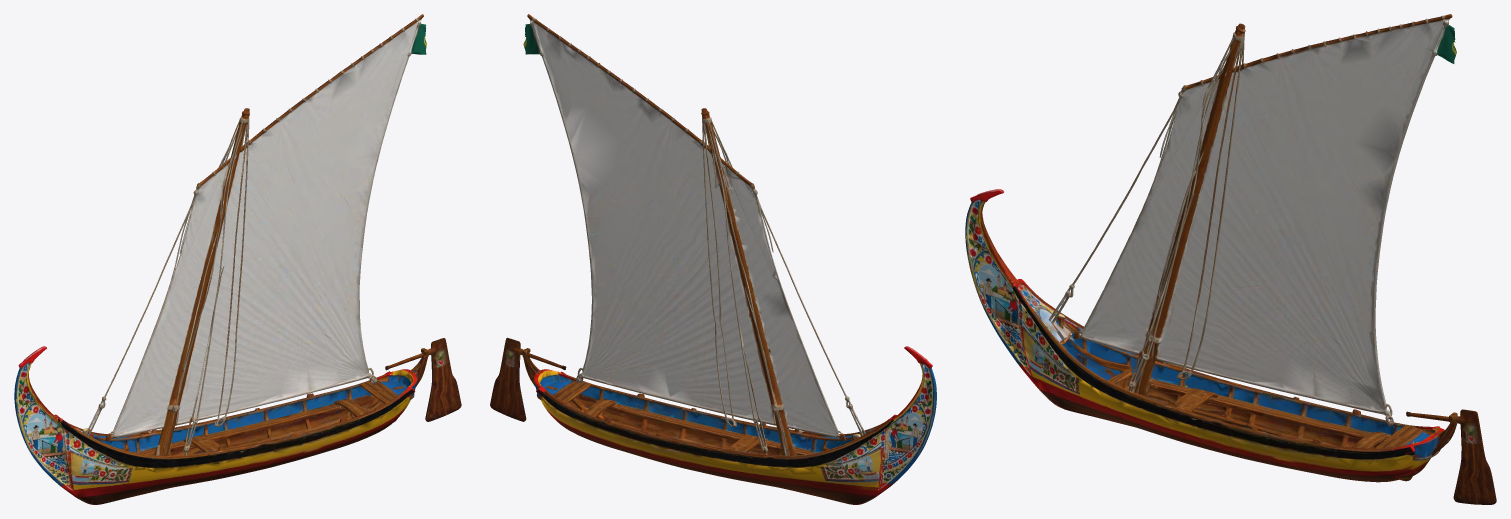
File: moliceiro.glb
The picture shows the model from 3 angles, left to right: view 1: azimuth 30°, elevation 25°; view 2: azimuth 150°, elevation 25°; view 3: azimuth 330°, elevation 25°; orthographic projection. The views are drawn at different scales.
Parts seen in each view (by area): view 1: Vela, Casco, Leme, Vela_estai; view 2: Vela, Casco, Leme, Vela_estai; view 3: Vela, Casco, Leme, Vela_estai.
Part boxes in pixels (x1,y1,x2,y2): Vela: (105,14,426,441); Casco: (14,108,417,504); Leme: (385,338,461,421); Vela_estai: (97,178,205,417); Vela: (523,14,845,441); Casco: (533,108,936,504); Leme: (490,337,566,421); Vela_estai: (745,178,853,417); Vela: (1073,14,1456,426); Casco: (965,23,1443,482); Leme: (1406,409,1496,504); Vela_estai: (1063,84,1191,305).
Bounding box in the file's own units: 17.32 × 15.26 × 2.51.
1 material, 1 textured.
